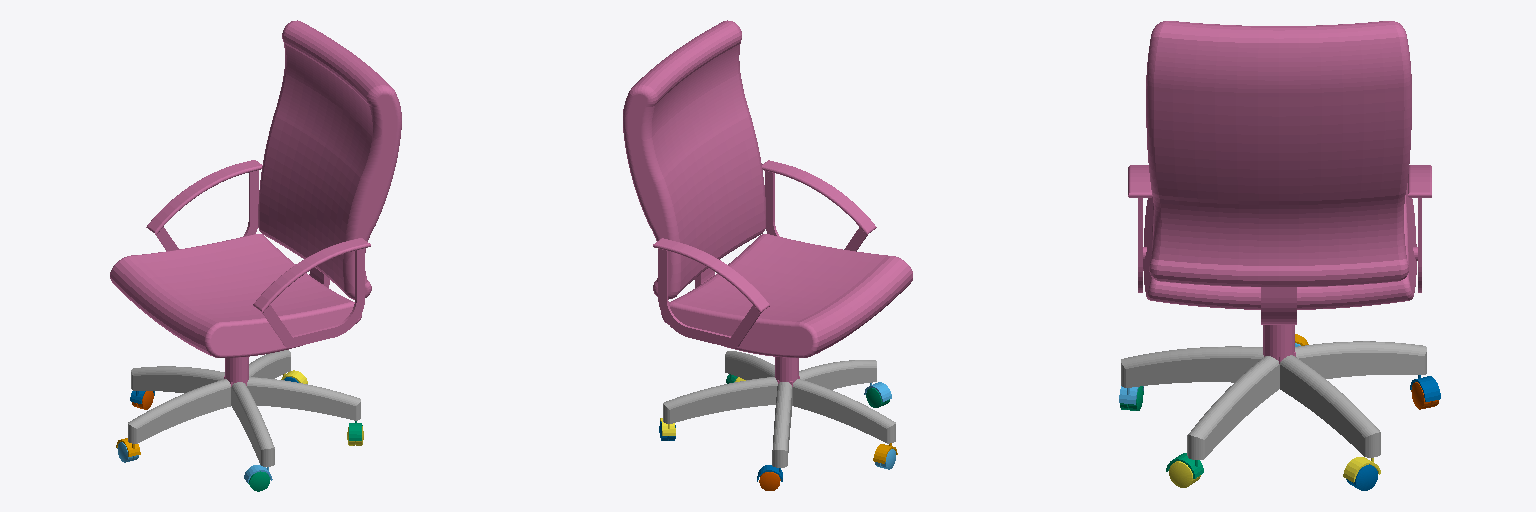
URDF robot description (partnet_1022fe7dd03f6a4d4d5ad9f13ac9f4e7):
<?xml version="1.0" ?>
<robot name="partnet_1022fe7dd03f6a4d4d5ad9f13ac9f4e7">
	<link name="base"/>
	<link name="link_0">
		<visual name="wheel-37">
			<origin xyz="0.04360191614851395 0.724833916148514 0"/>
			<geometry>
				<mesh filename="textured_objs/original-13.obj"/>
			</geometry>
		</visual>
		<collision>
			<origin xyz="0.04360191614851395 0.724833916148514 0"/>
			<geometry>
				<mesh filename="textured_objs/original-13.obj"/>
			</geometry>
		</collision>
	</link>
	<joint name="joint_0" type="continuous">
		<origin xyz="-0.0390978563524044 -0.724833916148514 -0.6495312231741888"/>
		<axis xyz="0 0 1"/>
		<child link="link_0"/>
		<parent link="link_7"/>
	</joint>
	<link name="link_1">
		<visual name="wheel-34">
			<origin xyz="0.046534161657978204 0.7272524325666636 -0.23035510488877897"/>
			<geometry>
				<mesh filename="textured_objs/original-19.obj"/>
			</geometry>
		</visual>
		<collision>
			<origin xyz="0.046534161657978204 0.7272524325666636 -0.23035510488877897"/>
			<geometry>
				<mesh filename="textured_objs/original-19.obj"/>
			</geometry>
		</collision>
	</link>
	<joint name="joint_1" type="continuous">
		<origin xyz="-0.4978430627864442 -0.7272524325666636 -0.0683813959001704"/>
		<axis xyz="-0.9771112760592786 -0.004842091607417371 -0.21267371334199667"/>
		<child link="link_1"/>
		<parent link="link_8"/>
	</joint>
	<link name="link_2">
		<visual name="wheel-31">
			<origin xyz="-0.11852022364237247 0.7264013031925148 -0.06725044189994248"/>
			<geometry>
				<mesh filename="textured_objs/original-26.obj"/>
			</geometry>
		</visual>
		<collision>
			<origin xyz="-0.11852022364237247 0.7264013031925148 -0.06725044189994248"/>
			<geometry>
				<mesh filename="textured_objs/original-26.obj"/>
			</geometry>
		</collision>
	</link>
	<joint name="joint_2" type="continuous">
		<origin xyz="-0.12829550725574373 -0.7264013031925148 0.288311200330267"/>
		<axis xyz="0.5165882667388415 0.00501793457183822 -0.8562192376958092"/>
		<child link="link_2"/>
		<parent link="link_9"/>
	</joint>
	<link name="link_3">
		<visual name="wheel-28">
			<origin xyz="0.05269027778791671 0.7253353560086507 -0.03867597891881288"/>
			<geometry>
				<mesh filename="textured_objs/original-33.obj"/>
			</geometry>
		</visual>
		<collision>
			<origin xyz="0.05269027778791671 0.7253353560086507 -0.03867597891881288"/>
			<geometry>
				<mesh filename="textured_objs/original-33.obj"/>
			</geometry>
		</collision>
	</link>
	<joint name="joint_3" type="continuous">
		<origin xyz="0.23178343389538117 -0.7253353560086507 0.24030269556035694"/>
		<axis xyz="-0.6051901235682686 0.0015144433917839023 -0.7960795317031064"/>
		<child link="link_3"/>
		<parent link="link_10"/>
	</joint>
	<link name="link_4">
		<visual name="wheel-25">
			<origin xyz="-0.04142401391888198 0.731950700092448 -0.09979932732698286"/>
			<geometry>
				<mesh filename="textured_objs/original-40.obj"/>
			</geometry>
		</visual>
		<collision>
			<origin xyz="-0.04142401391888198 0.731950700092448 -0.09979932732698286"/>
			<geometry>
				<mesh filename="textured_objs/original-40.obj"/>
			</geometry>
		</collision>
	</link>
	<joint name="joint_4" type="continuous">
		<origin xyz="0.46749025903396646 -0.731950700092448 -0.2884544524714958"/>
		<axis xyz="-0.8861740404718192 0.012999757567183728 0.4631701375272859"/>
		<child link="link_4"/>
		<parent link="link_11"/>
	</joint>
	<link name="link_5">
		<visual name="arm_holistic_frame-45">
			<origin xyz="0.0045041713144999915 0 -0.1779066497186364"/>
			<geometry>
				<mesh filename="textured_objs/new-8.obj"/>
			</geometry>
		</visual>
		<visual name="back_soft_surface-50">
			<origin xyz="0.0045041713144999915 0 -0.1779066497186364"/>
			<geometry>
				<mesh filename="textured_objs/original-9.obj"/>
			</geometry>
		</visual>
		<visual name="back_connector-49">
			<origin xyz="0.0045041713144999915 0 -0.1779066497186364"/>
			<geometry>
				<mesh filename="textured_objs/new-4.obj"/>
			</geometry>
		</visual>
		<visual name="back_connector-49">
			<origin xyz="0.0045041713144999915 0 -0.1779066497186364"/>
			<geometry>
				<mesh filename="textured_objs/new-2.obj"/>
			</geometry>
		</visual>
		<visual name="arm_holistic_frame-46">
			<origin xyz="0.0045041713144999915 0 -0.1779066497186364"/>
			<geometry>
				<mesh filename="textured_objs/new-7.obj"/>
			</geometry>
		</visual>
		<visual name="arm_connector-47">
			<origin xyz="0.0045041713144999915 0 -0.1779066497186364"/>
			<geometry>
				<mesh filename="textured_objs/new-6.obj"/>
			</geometry>
		</visual>
		<visual name="seat_soft_surface-44">
			<origin xyz="0.0045041713144999915 0 -0.1779066497186364"/>
			<geometry>
				<mesh filename="textured_objs/original-8.obj"/>
			</geometry>
		</visual>
		<visual name="seat_support-42">
			<origin xyz="0.0045041713144999915 0 -0.1779066497186364"/>
			<geometry>
				<mesh filename="textured_objs/new-5.obj"/>
			</geometry>
		</visual>
		<visual name="central_support-7">
			<origin xyz="0.0045041713144999915 0 -0.1779066497186364"/>
			<geometry>
				<mesh filename="textured_objs/original-11.obj"/>
			</geometry>
		</visual>
		<visual name="central_support-7">
			<origin xyz="0.0045041713144999915 0 -0.1779066497186364"/>
			<geometry>
				<mesh filename="textured_objs/original-6.obj"/>
			</geometry>
		</visual>
		<collision>
			<origin xyz="0.0045041713144999915 0 -0.1779066497186364"/>
			<geometry>
				<mesh filename="textured_objs/new-8.obj"/>
			</geometry>
		</collision>
		<collision>
			<origin xyz="0.0045041713144999915 0 -0.1779066497186364"/>
			<geometry>
				<mesh filename="textured_objs/original-9.obj"/>
			</geometry>
		</collision>
		<collision>
			<origin xyz="0.0045041713144999915 0 -0.1779066497186364"/>
			<geometry>
				<mesh filename="textured_objs/new-4.obj"/>
			</geometry>
		</collision>
		<collision>
			<origin xyz="0.0045041713144999915 0 -0.1779066497186364"/>
			<geometry>
				<mesh filename="textured_objs/new-2.obj"/>
			</geometry>
		</collision>
		<collision>
			<origin xyz="0.0045041713144999915 0 -0.1779066497186364"/>
			<geometry>
				<mesh filename="textured_objs/new-7.obj"/>
			</geometry>
		</collision>
		<collision>
			<origin xyz="0.0045041713144999915 0 -0.1779066497186364"/>
			<geometry>
				<mesh filename="textured_objs/new-6.obj"/>
			</geometry>
		</collision>
		<collision>
			<origin xyz="0.0045041713144999915 0 -0.1779066497186364"/>
			<geometry>
				<mesh filename="textured_objs/original-8.obj"/>
			</geometry>
		</collision>
		<collision>
			<origin xyz="0.0045041713144999915 0 -0.1779066497186364"/>
			<geometry>
				<mesh filename="textured_objs/new-5.obj"/>
			</geometry>
		</collision>
		<collision>
			<origin xyz="0.0045041713144999915 0 -0.1779066497186364"/>
			<geometry>
				<mesh filename="textured_objs/original-11.obj"/>
			</geometry>
		</collision>
		<collision>
			<origin xyz="0.0045041713144999915 0 -0.1779066497186364"/>
			<geometry>
				<mesh filename="textured_objs/original-6.obj"/>
			</geometry>
		</collision>
	</link>
	<joint name="joint_5" type="continuous">
		<origin xyz="0.0 0 0.0"/>
		<axis xyz="0 -1 0"/>
		<child link="link_5"/>
		<parent link="link_5_helper"/>
	</joint>
	<link name="link_6">
		<visual name="leg-9">
			<origin xyz="0 0 0"/>
			<geometry>
				<mesh filename="textured_objs/original-10.obj"/>
			</geometry>
		</visual>
		<visual name="leg-10">
			<origin xyz="0 0 0"/>
			<geometry>
				<mesh filename="textured_objs/original-24.obj"/>
			</geometry>
		</visual>
		<visual name="leg-11">
			<origin xyz="0 0 0"/>
			<geometry>
				<mesh filename="textured_objs/original-31.obj"/>
			</geometry>
		</visual>
		<visual name="leg-12">
			<origin xyz="0 0 0"/>
			<geometry>
				<mesh filename="textured_objs/original-38.obj"/>
			</geometry>
		</visual>
		<visual name="leg-13">
			<origin xyz="0 0 0"/>
			<geometry>
				<mesh filename="textured_objs/original-45.obj"/>
			</geometry>
		</visual>
		<collision>
			<origin xyz="0 0 0"/>
			<geometry>
				<mesh filename="textured_objs/original-10.obj"/>
			</geometry>
		</collision>
		<collision>
			<origin xyz="0 0 0"/>
			<geometry>
				<mesh filename="textured_objs/original-24.obj"/>
			</geometry>
		</collision>
		<collision>
			<origin xyz="0 0 0"/>
			<geometry>
				<mesh filename="textured_objs/original-31.obj"/>
			</geometry>
		</collision>
		<collision>
			<origin xyz="0 0 0"/>
			<geometry>
				<mesh filename="textured_objs/original-38.obj"/>
			</geometry>
		</collision>
		<collision>
			<origin xyz="0 0 0"/>
			<geometry>
				<mesh filename="textured_objs/original-45.obj"/>
			</geometry>
		</collision>
	</link>
	<joint name="joint_6" type="fixed">
		<origin rpy="1.570796326794897 0 -1.570796326794897" xyz="0 0 0"/>
		<child link="link_6"/>
		<parent link="base"/>
	</joint>
	<link name="link_7">
		<visual name="caster_yoke-35">
			<origin xyz="0.004504059796109554 0 -0.6495312231741888"/>
			<geometry>
				<mesh filename="textured_objs/original-15.obj"/>
			</geometry>
		</visual>
		<visual name="caster_stem-36">
			<origin xyz="0.004504059796109554 0 -0.6495312231741888"/>
			<geometry>
				<mesh filename="textured_objs/original-14.obj"/>
			</geometry>
		</visual>
		<collision>
			<origin xyz="0.004504059796109554 0 -0.6495312231741888"/>
			<geometry>
				<mesh filename="textured_objs/original-15.obj"/>
			</geometry>
		</collision>
		<collision>
			<origin xyz="0.004504059796109554 0 -0.6495312231741888"/>
			<geometry>
				<mesh filename="textured_objs/original-14.obj"/>
			</geometry>
		</collision>
	</link>
	<joint name="joint_7" type="continuous">
		<origin xyz="-0.004504059796109554 0 0.6495312231741888"/>
		<axis xyz="0 1 0"/>
		<child link="link_7"/>
		<parent link="link_6"/>
	</joint>
	<link name="link_8">
		<visual name="caster_yoke-32">
			<origin xyz="-0.451308901128466 0 -0.29873650078894937"/>
			<geometry>
				<mesh filename="textured_objs/original-21.obj"/>
			</geometry>
		</visual>
		<visual name="caster_stem-33">
			<origin xyz="-0.451308901128466 0 -0.29873650078894937"/>
			<geometry>
				<mesh filename="textured_objs/original-20.obj"/>
			</geometry>
		</visual>
		<collision>
			<origin xyz="-0.451308901128466 0 -0.29873650078894937"/>
			<geometry>
				<mesh filename="textured_objs/original-21.obj"/>
			</geometry>
		</collision>
		<collision>
			<origin xyz="-0.451308901128466 0 -0.29873650078894937"/>
			<geometry>
				<mesh filename="textured_objs/original-20.obj"/>
			</geometry>
		</collision>
	</link>
	<joint name="joint_8" type="continuous">
		<origin xyz="0.451308901128466 0 0.29873650078894937"/>
		<axis xyz="0 1 0"/>
		<child link="link_8"/>
		<parent link="link_6"/>
	</joint>
	<link name="link_9">
		<visual name="caster_yoke-29">
			<origin xyz="-0.2468157308981162 0 0.22106075843032452"/>
			<geometry>
				<mesh filename="textured_objs/original-28.obj"/>
			</geometry>
		</visual>
		<visual name="caster_stem-30">
			<origin xyz="-0.2468157308981162 0 0.22106075843032452"/>
			<geometry>
				<mesh filename="textured_objs/original-27.obj"/>
			</geometry>
		</visual>
		<collision>
			<origin xyz="-0.2468157308981162 0 0.22106075843032452"/>
			<geometry>
				<mesh filename="textured_objs/original-28.obj"/>
			</geometry>
		</collision>
		<collision>
			<origin xyz="-0.2468157308981162 0 0.22106075843032452"/>
			<geometry>
				<mesh filename="textured_objs/original-27.obj"/>
			</geometry>
		</collision>
	</link>
	<joint name="joint_9" type="continuous">
		<origin xyz="0.2468157308981162 0 -0.22106075843032452"/>
		<axis xyz="0 1 0"/>
		<child link="link_9"/>
		<parent link="link_6"/>
	</joint>
	<link name="link_10">
		<visual name="caster_yoke-26">
			<origin xyz="0.2844737116832979 0 0.20162671664154405"/>
			<geometry>
				<mesh filename="textured_objs/original-35.obj"/>
			</geometry>
		</visual>
		<visual name="caster_stem-27">
			<origin xyz="0.2844737116832979 0 0.20162671664154405"/>
			<geometry>
				<mesh filename="textured_objs/original-34.obj"/>
			</geometry>
		</visual>
		<collision>
			<origin xyz="0.2844737116832979 0 0.20162671664154405"/>
			<geometry>
				<mesh filename="textured_objs/original-35.obj"/>
			</geometry>
		</collision>
		<collision>
			<origin xyz="0.2844737116832979 0 0.20162671664154405"/>
			<geometry>
				<mesh filename="textured_objs/original-34.obj"/>
			</geometry>
		</collision>
	</link>
	<joint name="joint_10" type="continuous">
		<origin xyz="-0.2844737116832979 0 -0.20162671664154405"/>
		<axis xyz="0 1 0"/>
		<child link="link_10"/>
		<parent link="link_6"/>
	</joint>
	<link name="link_11">
		<visual name="caster_yoke-23">
			<origin xyz="0.42606624511508445 0 -0.3882537797984787"/>
			<geometry>
				<mesh filename="textured_objs/original-42.obj"/>
			</geometry>
		</visual>
		<visual name="caster_stem-24">
			<origin xyz="0.42606624511508445 0 -0.3882537797984787"/>
			<geometry>
				<mesh filename="textured_objs/original-41.obj"/>
			</geometry>
		</visual>
		<collision>
			<origin xyz="0.42606624511508445 0 -0.3882537797984787"/>
			<geometry>
				<mesh filename="textured_objs/original-42.obj"/>
			</geometry>
		</collision>
		<collision>
			<origin xyz="0.42606624511508445 0 -0.3882537797984787"/>
			<geometry>
				<mesh filename="textured_objs/original-41.obj"/>
			</geometry>
		</collision>
	</link>
	<joint name="joint_11" type="continuous">
		<origin xyz="-0.42606624511508445 0 0.3882537797984787"/>
		<axis xyz="0 1 0"/>
		<child link="link_11"/>
		<parent link="link_6"/>
	</joint>
	<link name="link_5_helper"/>
	<joint name="joint_12" type="prismatic">
		<origin xyz="-0.0045041713144999915 0 0.1779066497186364"/>
		<axis xyz="0 -1 0"/>
		<child link="link_5_helper"/>
		<parent link="link_6"/>
		<limit lower="0" upper="0.1"/>
	</joint>
</robot>

--- Facts derived from the render (not from the file) ---
The picture shows the robot from 3 angles, left to right: view 1: azimuth 30°, elevation 25°; view 2: azimuth 150°, elevation 25°; view 3: azimuth 270°, elevation 25°; orthographic projection.
Robot: partnet_1022fe7dd03f6a4d4d5ad9f13ac9f4e7 — 14 links, 13 joints (11 continuous, 1 prismatic, 1 fixed); root link base; default pose: all joints at 0.
Links seen in each view (by area): view 1: link_5, link_6; view 2: link_5, link_6; view 3: link_5, link_6.
Link boxes in pixels (x1,y1,x2,y2): link_5: (110,20,401,386); link_6: (128,350,360,466); link_5: (623,20,912,386); link_6: (663,351,895,467); link_5: (1128,21,1431,363); link_6: (1121,341,1426,459).
Bounding box of the posed robot: 1.07 × 0.9705 × 1.58 m (x, y, z).
30 mesh visuals loaded from 30 distinct referenced files (30 OBJ).